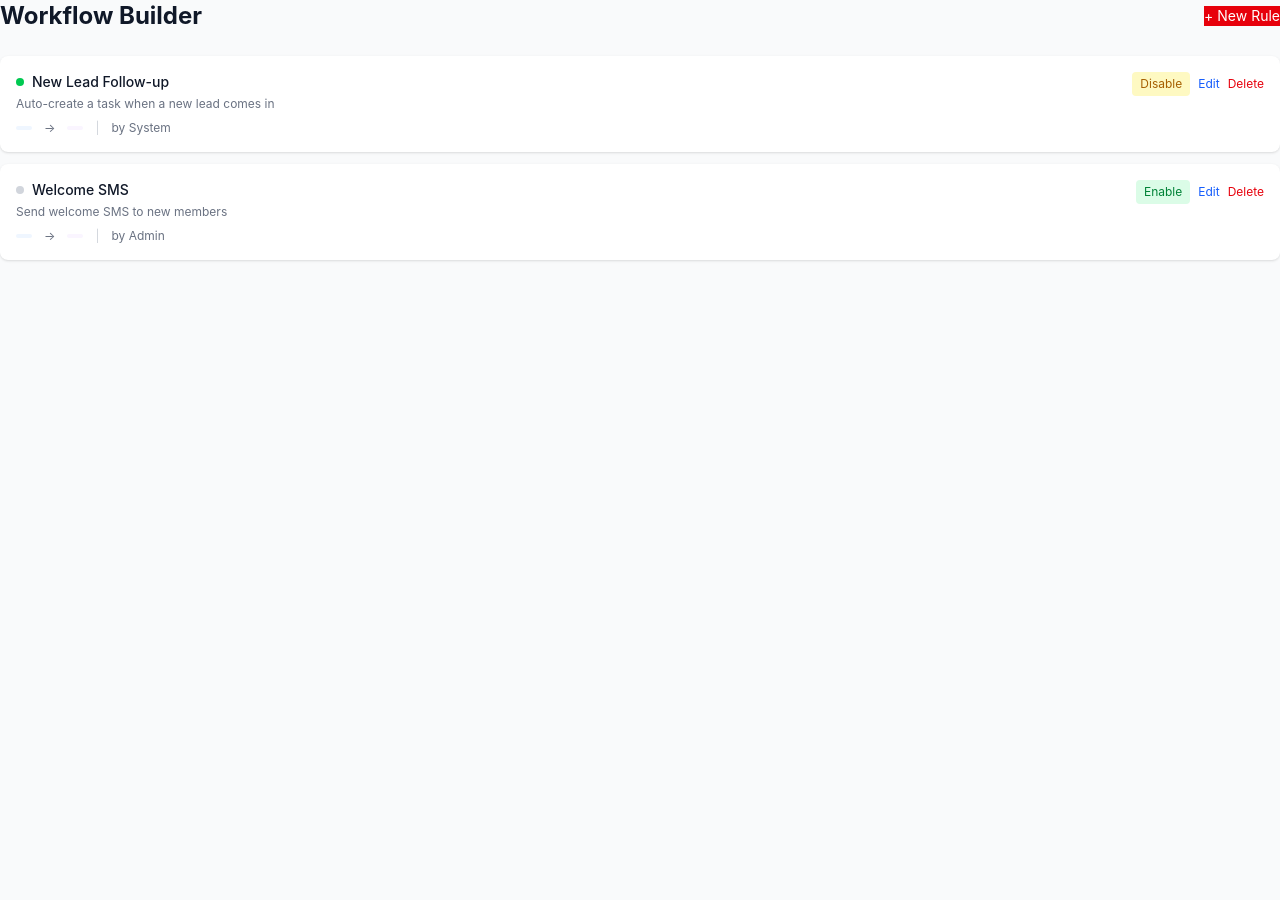
WorkflowBuilder Page › opens new rule modal on button click
Click the button "+ New Rule" at (1242, 16), box [1204,6,1279,26]
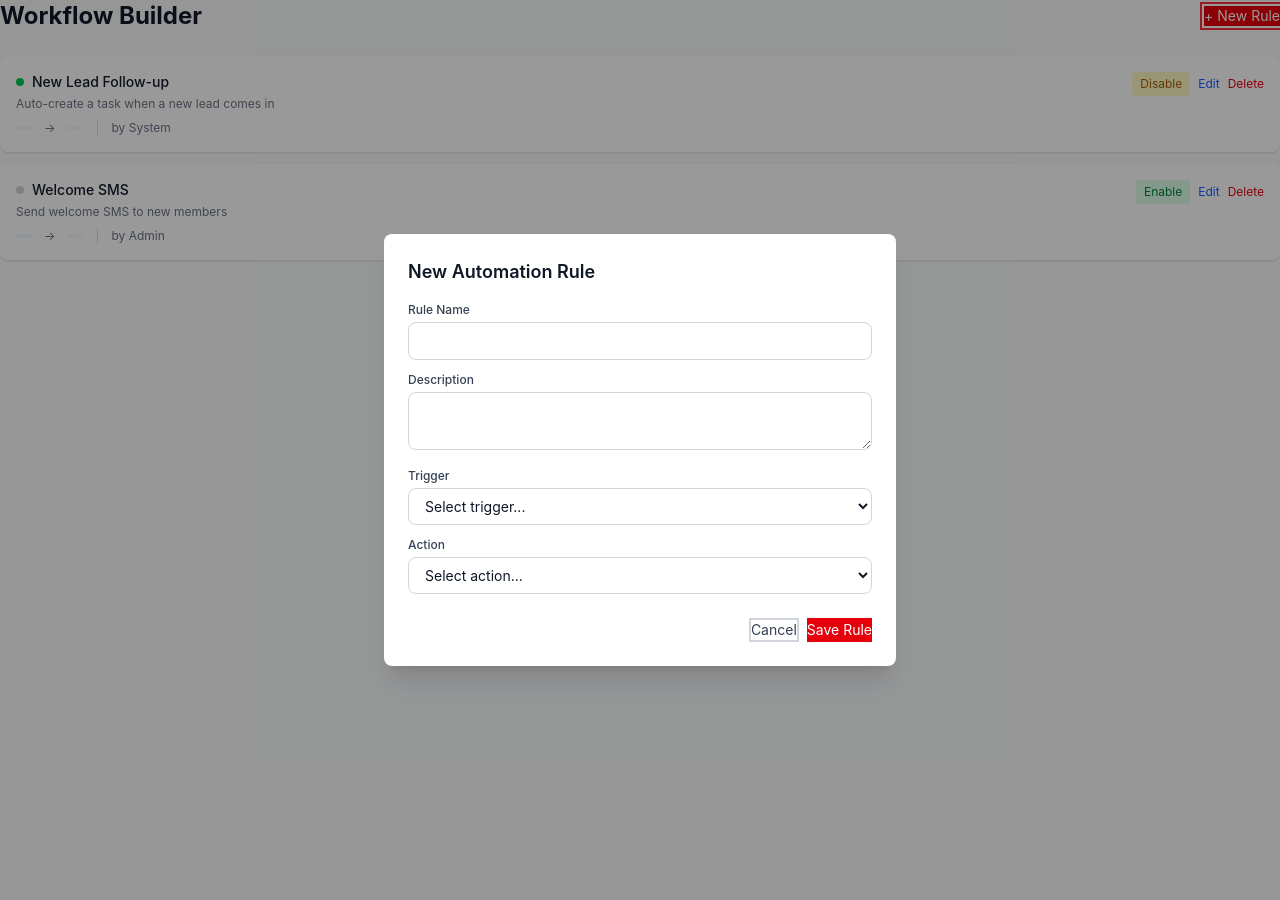
Expected: the heading "New Automation Rule" is shown, [408,261,595,282]
Expected: the text "Rule Name" is shown, [408,302,470,317]
Expected: the text "Trigger" is shown, [408,468,450,483]
